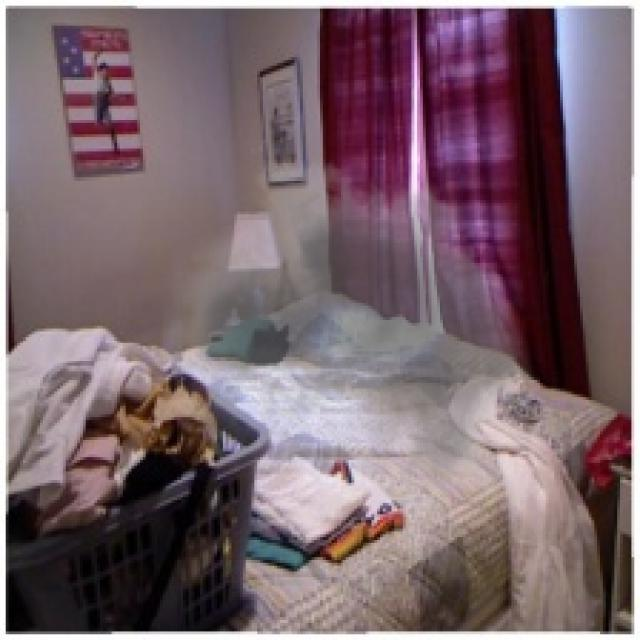smoke: (160, 140, 549, 563)
